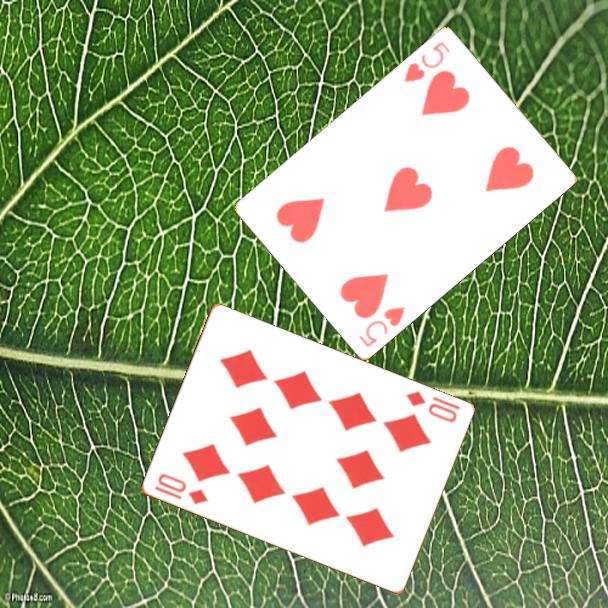d10: (402, 387, 463, 425), (150, 470, 210, 508)
h05: (400, 37, 454, 85), (355, 302, 408, 350)
